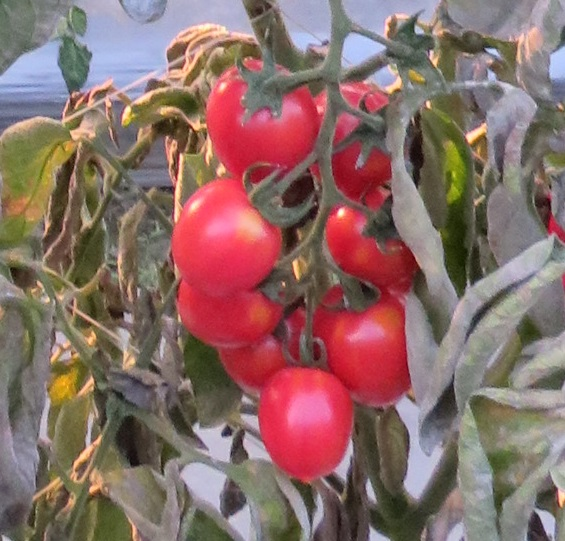red: (197, 58, 318, 179), (172, 176, 282, 298), (257, 364, 356, 482), (307, 78, 407, 190), (327, 291, 413, 405), (171, 277, 285, 351), (324, 185, 397, 286), (211, 335, 292, 397)
